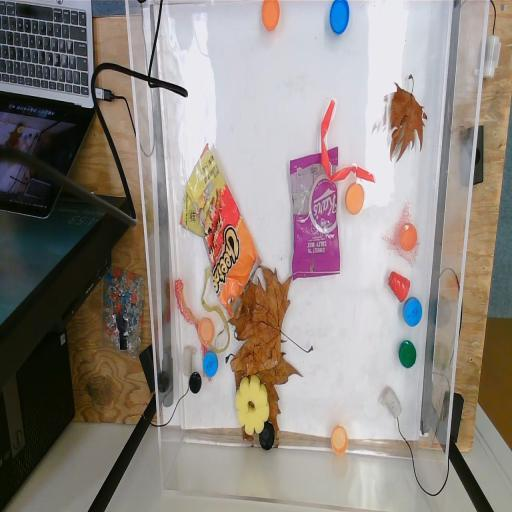Bottle Cap: (329, 0, 349, 35), (344, 182, 364, 216), (402, 296, 422, 327), (261, 0, 280, 31), (330, 424, 348, 456), (399, 223, 418, 252), (398, 339, 416, 369), (197, 317, 214, 347), (258, 420, 274, 451), (202, 350, 218, 376), (188, 372, 202, 394)
Cone Cap: (388, 270, 410, 304)
Leaf: (227, 265, 313, 373), (224, 344, 304, 442), (370, 74, 428, 164)
Netting: (174, 280, 214, 383), (381, 200, 420, 268)
Plastic Bag: (179, 141, 261, 319), (290, 145, 342, 281)
Plastic Strand: (320, 99, 376, 184), (178, 266, 230, 353)
Sponge: (235, 375, 270, 435)
